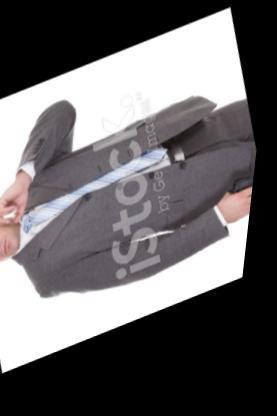pistol: (226, 180, 257, 216)
